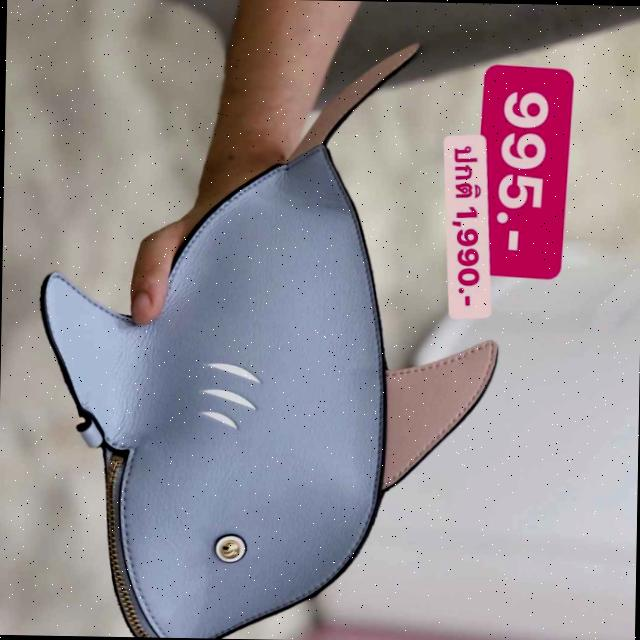Handbag: (32, 44, 506, 640)
